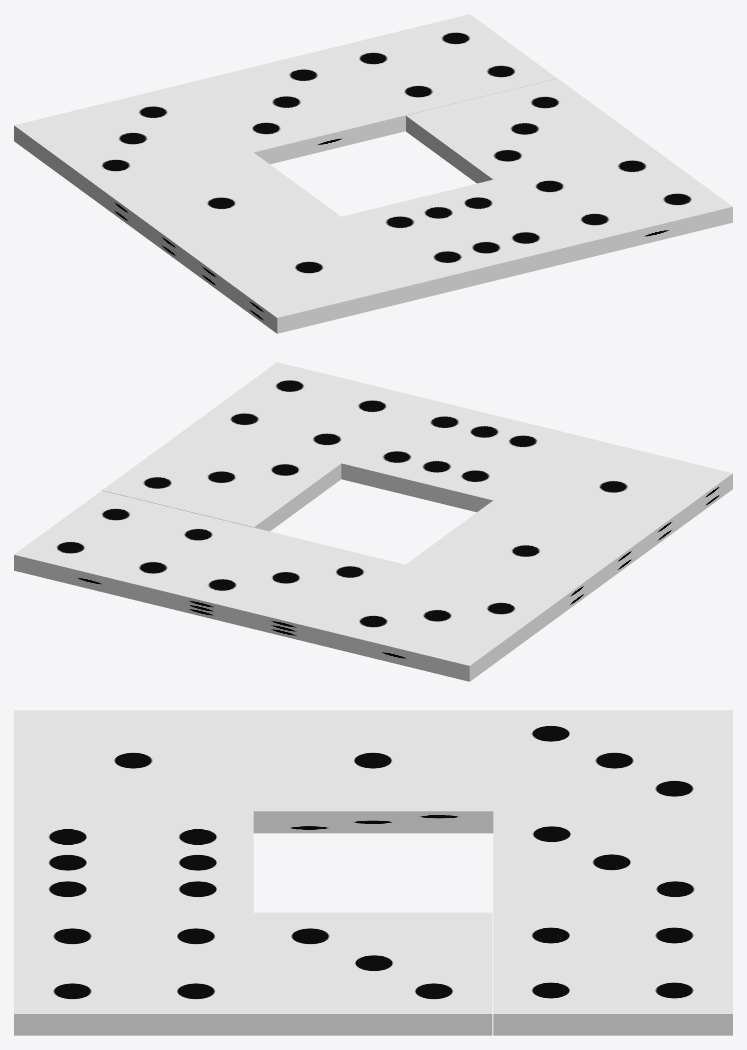
The model's file is blocks_1.glb.
The picture shows the model from 3 angles, top to bottom: view 1: azimuth 30°, elevation 25°; view 2: azimuth 150°, elevation 25°; view 3: azimuth 270°, elevation 25°; orthographic projection. The views are drawn at different scales.
Visible parts, largest first — view 1: Cube, Cube.001, Cube.002, Cube.003, Cube.005, Cube.004, Cube.006, Cube.007; view 2: Cube.004, Cube.003, Cube.007, Cube.001, Cube.005, Cube, Cube.006, Cube.002; view 3: Cube.005, Cube.006, Cube.007, Cube.002, Cube, Cube.001, Cube.003, Cube.004.
Boxes of the visible parts, x1=… form: Cube: x1=189, y1=216, x2=428, y2=333; Cube.001: x1=342, y1=179, x2=580, y2=296; Cube.002: x1=493, y1=143, x2=732, y2=259; Cube.003: x1=166, y1=51, x2=405, y2=164; Cube.005: x1=101, y1=152, x2=340, y2=268; Cube.004: x1=14, y1=88, x2=253, y2=204; Cube.006: x1=406, y1=78, x2=645, y2=183; Cube.007: x1=318, y1=14, x2=557, y2=130; Cube.004: x1=318, y1=564, x2=557, y2=681; Cube.003: x1=166, y1=527, x2=404, y2=644; Cube.007: x1=14, y1=490, x2=253, y2=607; Cube.001: x1=341, y1=399, x2=580, y2=512; Cube.005: x1=406, y1=500, x2=645, y2=616; Cube: x1=493, y1=436, x2=732, y2=552; Cube.006: x1=102, y1=426, x2=341, y2=531; Cube.002: x1=190, y1=362, x2=428, y2=462; Cube.005: x1=253, y1=710, x2=493, y2=833; Cube.006: x1=252, y1=912, x2=492, y2=1035; Cube.007: x1=493, y1=912, x2=732, y2=1035; Cube.002: x1=14, y1=912, x2=253, y2=1035; Cube: x1=14, y1=710, x2=253, y2=811; Cube.001: x1=14, y1=811, x2=253, y2=912; Cube.003: x1=493, y1=811, x2=732, y2=912; Cube.004: x1=493, y1=710, x2=732, y2=811.
Bounding box in the file's own units: 6 × 0.2 × 6.
Materials: 1 (1 with a texture image).
